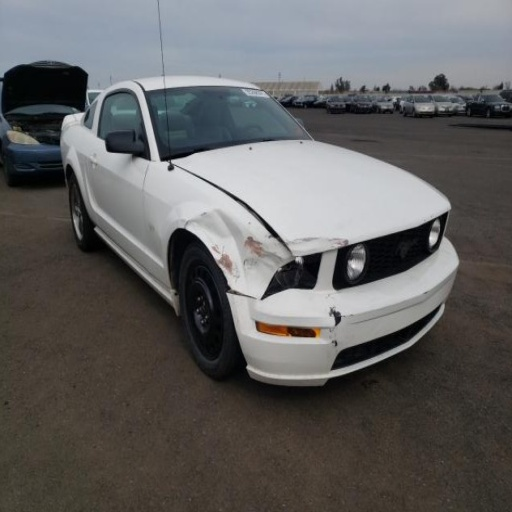dent: (180, 206, 352, 302), (172, 218, 186, 229)
rust: (245, 234, 264, 256), (217, 252, 233, 276), (210, 243, 222, 255)
scratch: (244, 235, 282, 266), (212, 243, 235, 280), (284, 236, 350, 247), (324, 289, 341, 304), (244, 257, 258, 268), (183, 218, 193, 228), (266, 232, 273, 241), (348, 313, 354, 320), (199, 212, 207, 217), (328, 312, 331, 318)
